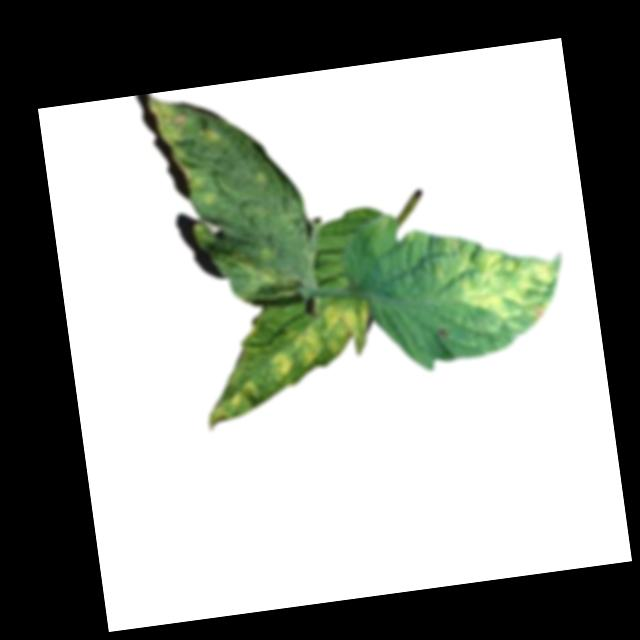Leaf_Mold: (433, 218, 573, 343), (262, 293, 378, 384), (144, 85, 229, 208), (202, 377, 266, 430)
